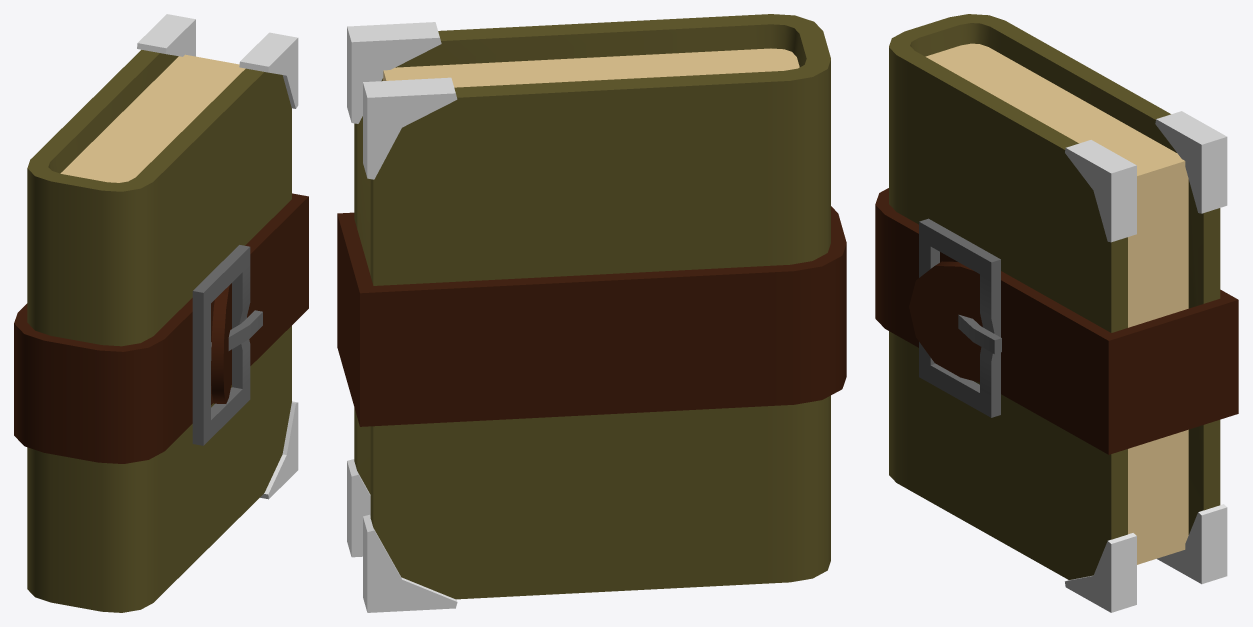
Rendered from obj_Book_13.fbx.
3 renders of one model, left to right at view 1: azimuth 30°, elevation 25°; view 2: azimuth 150°, elevation 25°; view 3: azimuth 270°, elevation 25°, orthographic. The views are drawn at different scales.
Visible parts, largest first — view 1: Book_13, Book_EdgePattern.026; view 2: Book_13, Book_EdgePattern.026; view 3: Book_13, Book_EdgePattern.026.
Part boxes in pixels (x1,y1,x2,y2): Book_13: [14, 49, 308, 612]; Book_EdgePattern.026: [137, 14, 298, 499]; Book_13: [337, 14, 846, 599]; Book_EdgePattern.026: [347, 22, 457, 612]; Book_13: [875, 14, 1238, 579]; Book_EdgePattern.026: [1065, 111, 1227, 612].
Bounding box in the file's own units: 0.2453 × 0.286 × 0.2143.
